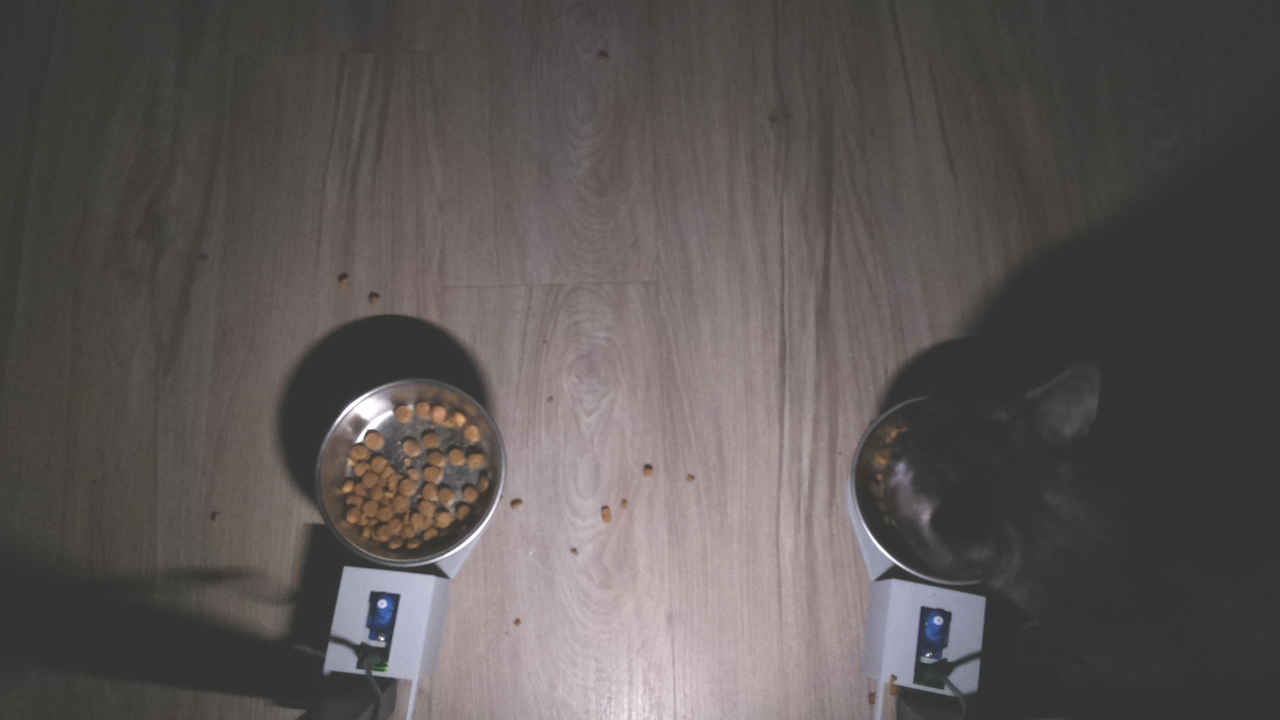open_bowl: (313, 372, 513, 575)
saki_eating: (839, 364, 1123, 599)
